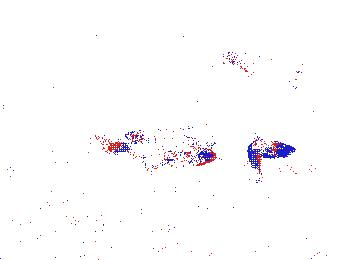redtail glassfish: (96, 133, 223, 179), (218, 47, 309, 95), (124, 125, 230, 163), (246, 132, 297, 177)
